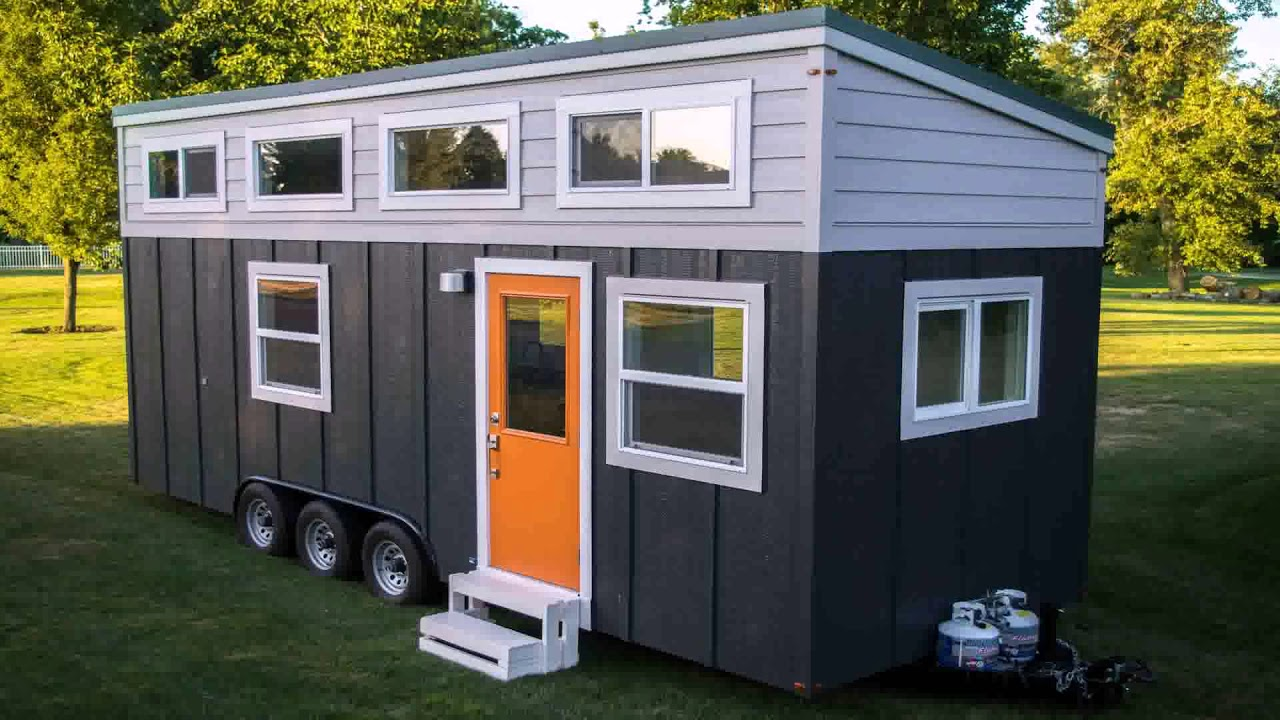Tin-shade House: (95, 37, 1111, 642)
